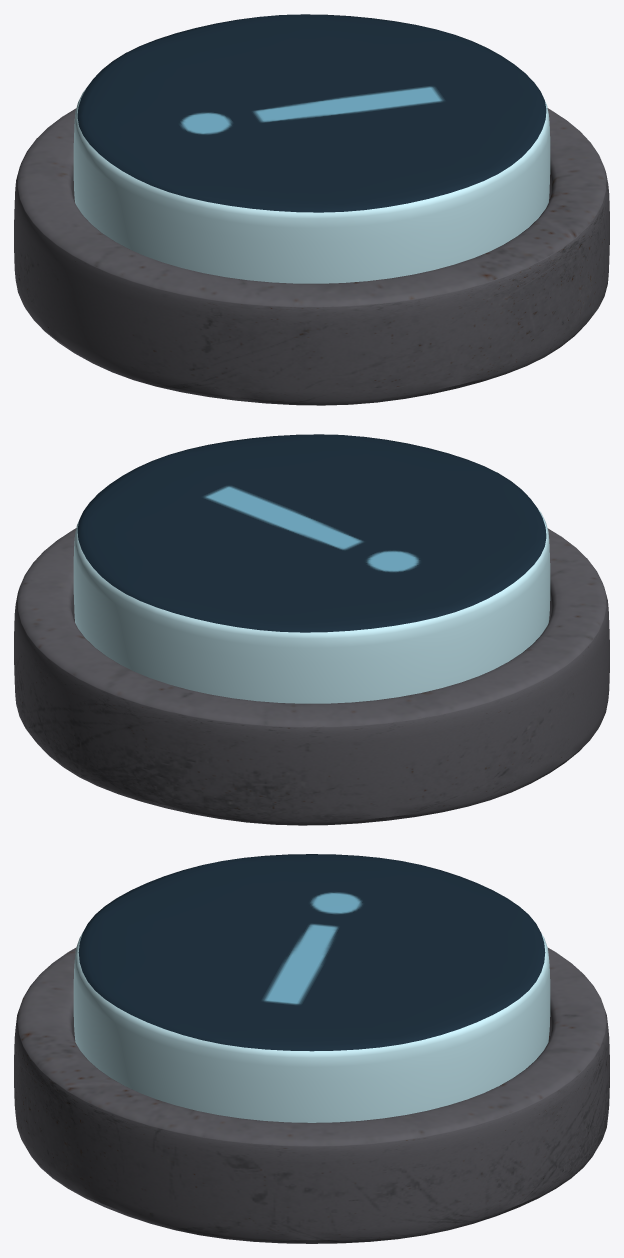
Rendered from gracieAriannePeh_hintButton.fbx.
3 views of the same model, one above another, from view 1: azimuth 30°, elevation 25°; view 2: azimuth 150°, elevation 25°; view 3: azimuth 270°, elevation 25° (orthographic).
Parts seen in each view (by area): view 1: button, hint_button; view 2: button, hint_button; view 3: button, hint_button.
Boxes of the visible parts, x1,y1,x2,y2 form: button: (73, 14, 550, 283); hint_button: (14, 108, 609, 405); button: (73, 434, 550, 703); hint_button: (14, 528, 609, 825); button: (73, 854, 550, 1122); hint_button: (14, 948, 609, 1243).
Size of the model in its own units: 0.1794 by 0.0585 by 0.1794.
